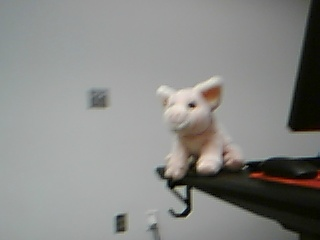piggy: (155, 74, 247, 182)
